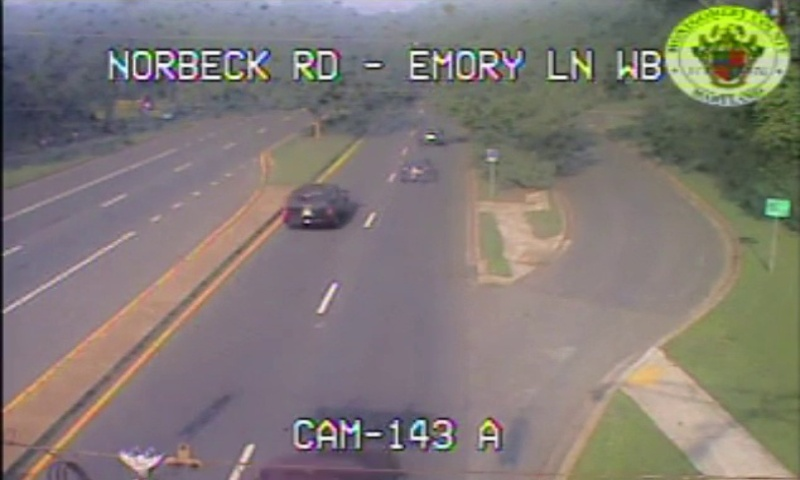car: (282, 184, 347, 226)
